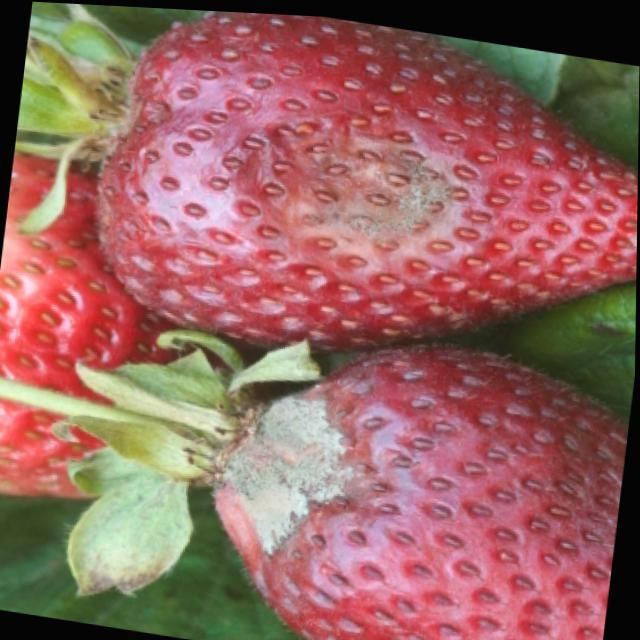Gray Mold: (233, 77, 479, 280), (211, 357, 403, 603)
